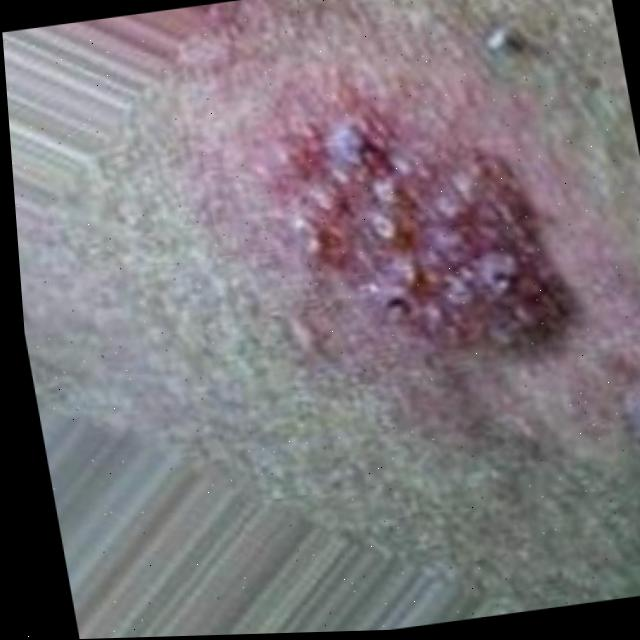Shingles: (279, 100, 578, 366)
